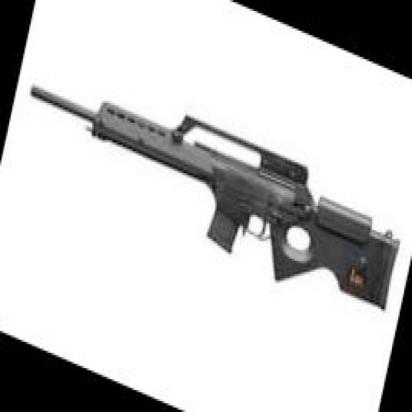Gun: (34, 69, 399, 305)
